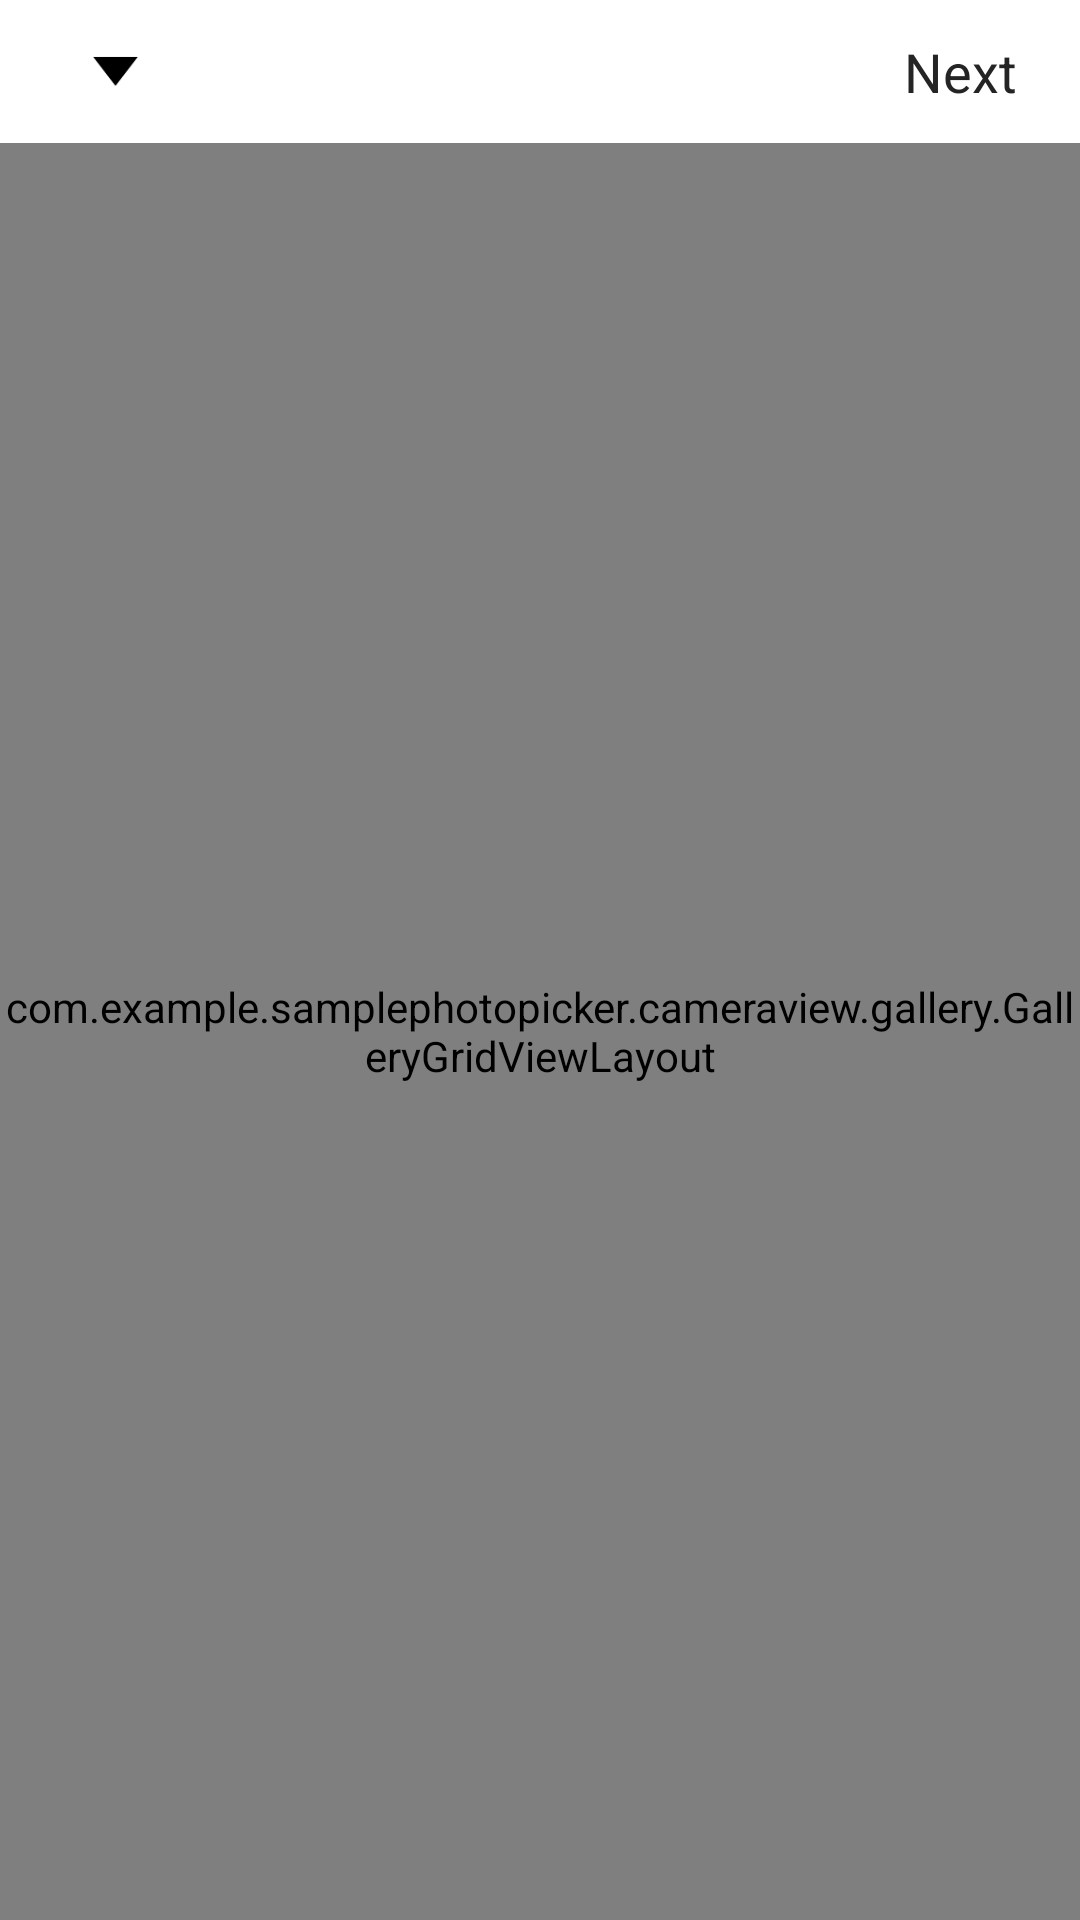

Screen size 1080px×1920px. Icon name, then its center in pixels as (x,y):
triangle down: (115,71)
